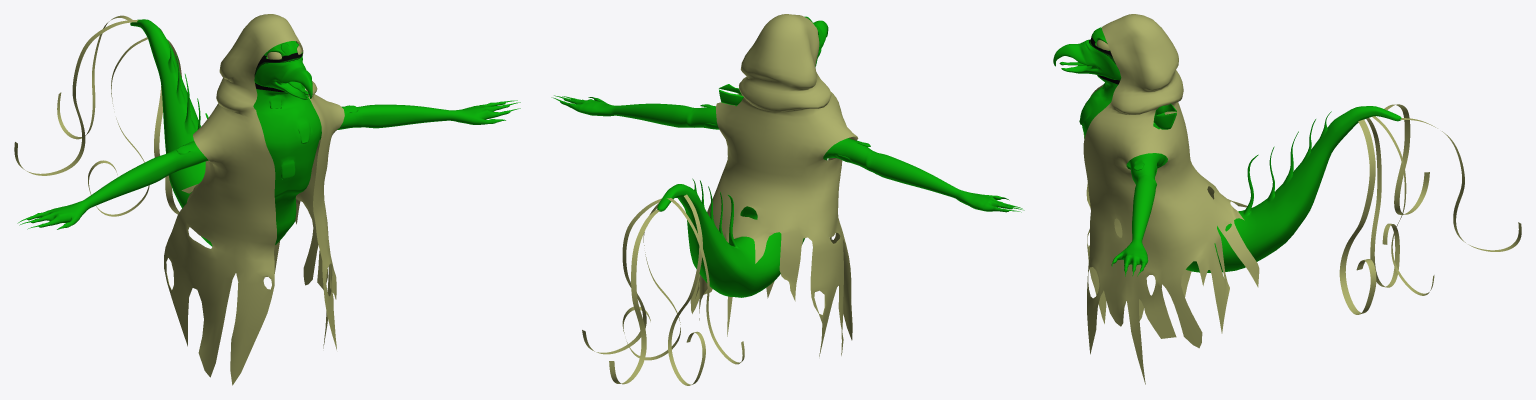
Rendered from replika_texture.fbx.
3 renders of one model, left to right at view 1: azimuth 30°, elevation 25°; view 2: azimuth 150°, elevation 25°; view 3: azimuth 270°, elevation 25°, orthographic. The views are drawn at different scales.
Parts seen in each view (by area): view 1: cope2:copebody_mesh1, body, sweep5, sweep6, sweep4; view 2: cope2:copebody_mesh1, body, sweep6, sweep4, sweep2, sweep5, sweep3; view 3: cope2:copebody_mesh1, body, sweep3, sweep4, sweep5, sweep6, sweep2.
Part boxes in pixels (x1=…): cope2:copebody_mesh1: x1=164, y1=14, x2=344, y2=385; body: x1=17, y1=19, x2=520, y2=246; sweep5: x1=14, y1=20, x2=138, y2=175; sweep6: x1=57, y1=15, x2=132, y2=139; sweep4: x1=88, y1=37, x2=149, y2=216; cope2:copebody_mesh1: x1=690, y1=14, x2=858, y2=356; body: x1=551, y1=16, x2=1024, y2=297; sweep6: x1=609, y1=209, x2=659, y2=384; sweep4: x1=668, y1=194, x2=705, y2=385; sweep2: x1=582, y1=198, x2=661, y2=354; sweep5: x1=667, y1=198, x2=744, y2=364; sweep3: x1=622, y1=202, x2=680, y2=360; cope2:copebody_mesh1: x1=1083, y1=14, x2=1259, y2=384; body: x1=1053, y1=27, x2=1401, y2=276; sweep3: x1=1339, y1=119, x2=1376, y2=314; sweep4: x1=1366, y1=118, x2=1399, y2=287; sweep5: x1=1384, y1=104, x2=1429, y2=214; sweep6: x1=1400, y1=118, x2=1521, y2=251; sweep2: x1=1372, y1=116, x2=1434, y2=295.
Size of the model in its own units: 402 by 269 by 334.
